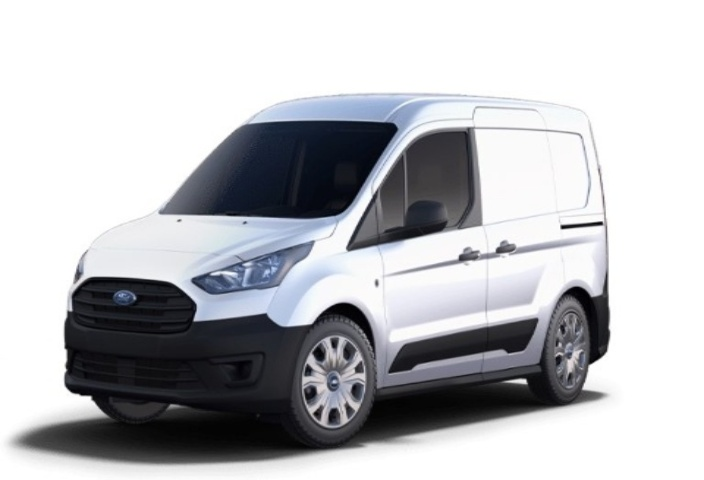van: (24, 68, 631, 439)
